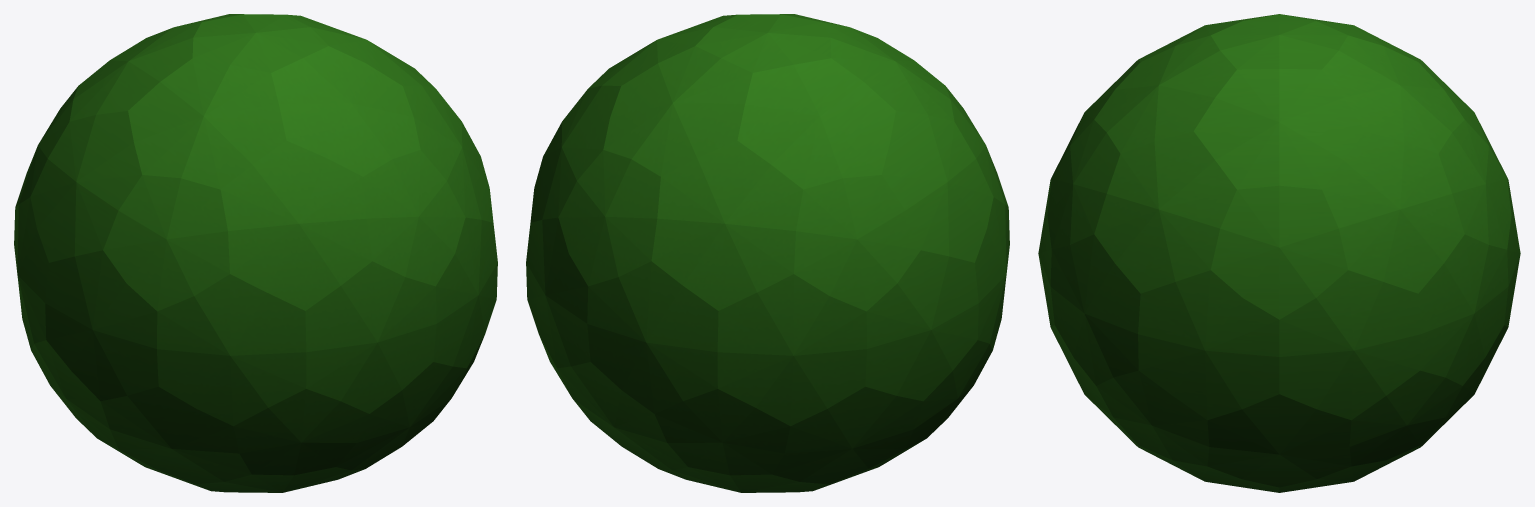
File: Prefab_Foliage_Bush_Sphere.glb
3 views of the same model, side by side, from view 1: azimuth 30°, elevation 25°; view 2: azimuth 150°, elevation 25°; view 3: azimuth 270°, elevation 25° (orthographic).
Parts seen in each view (by area): view 1: Bush_Icosphere; view 2: Bush_Icosphere; view 3: Bush_Icosphere.
Boxes of the visible parts, left/top/right/bottom form: Bush_Icosphere: left=14, top=14, right=497, bottom=492; Bush_Icosphere: left=526, top=14, right=1009, bottom=492; Bush_Icosphere: left=1038, top=14, right=1520, bottom=492.
Bounding box in the file's own units: 0.6096 × 0.6096 × 0.6096.
1 material, 1 textured.
